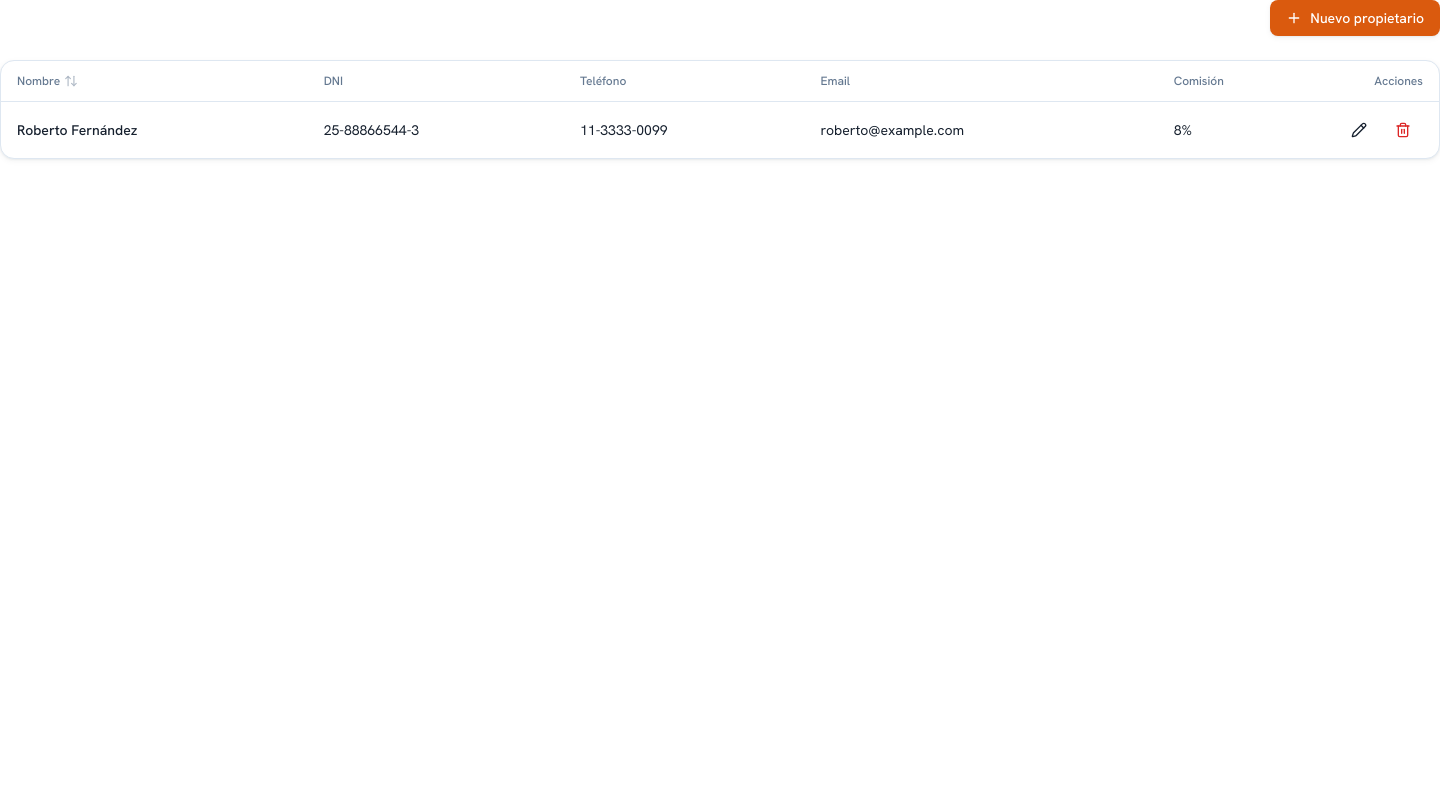
Test: PropietariosList — Delete row action › clicking Eliminar shows confirm AlertDialog with Spanish copy
Click the button named "eliminar" at (1403, 130), box [1383, 114, 1423, 146]
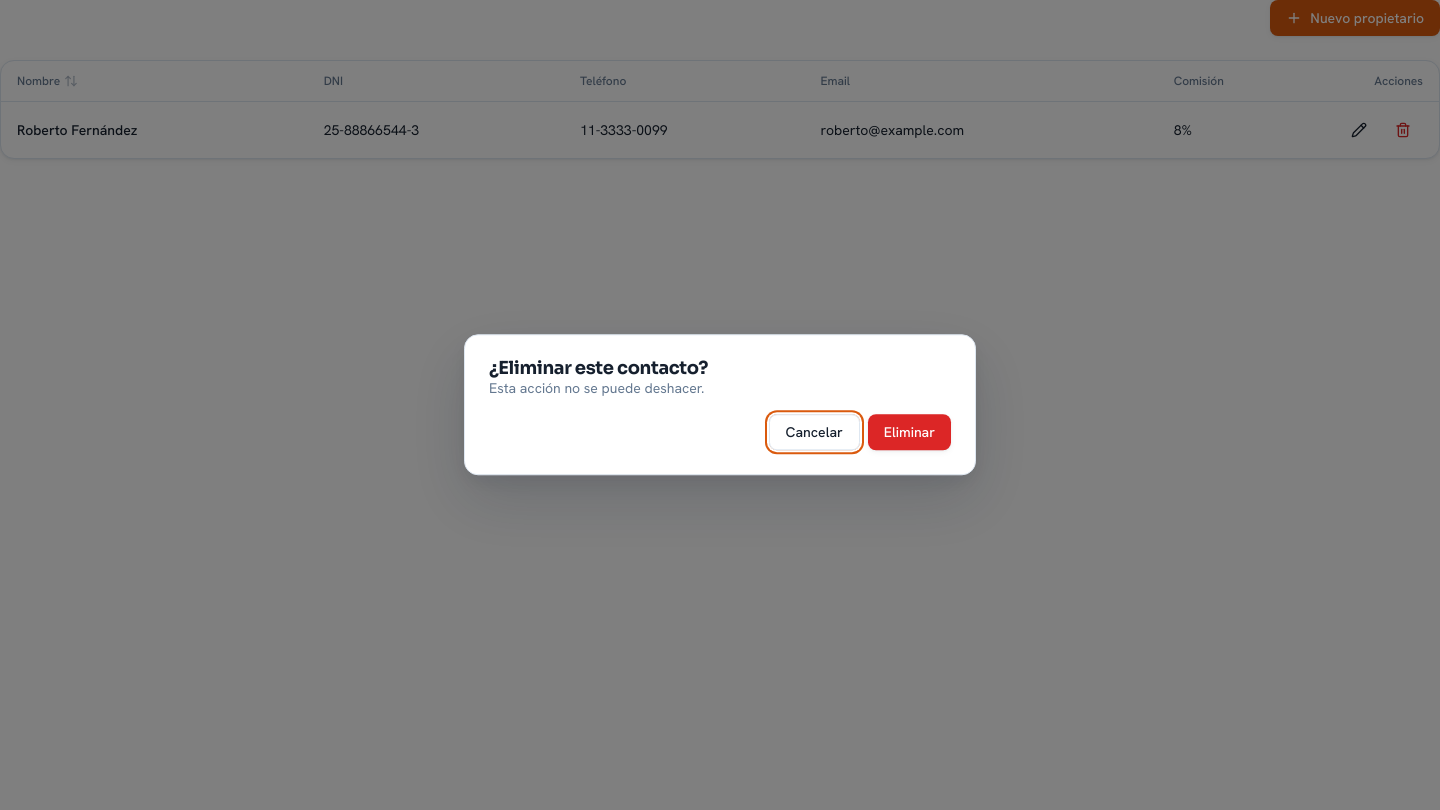
Result: the dialog is shown at [464, 334, 976, 476]
Result: the heading "¿Eliminar este contacto?" is shown at [489, 357, 708, 379]
Result: the text "Esta acción no se puede deshacer." is shown at [489, 380, 704, 398]
